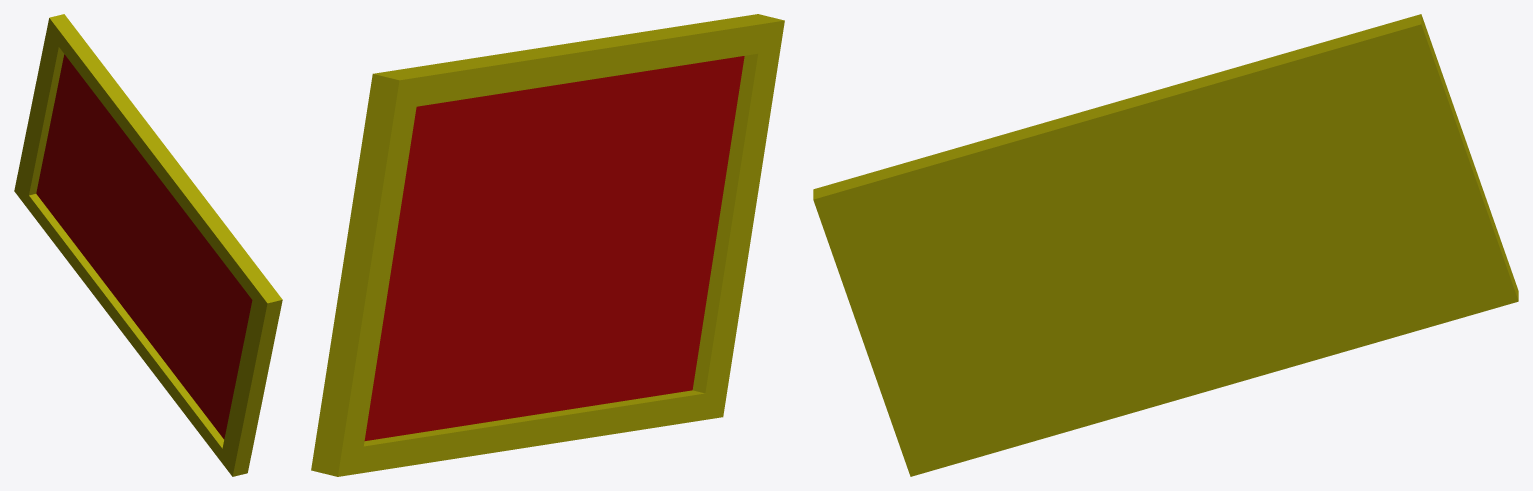
The picture shows the model from 3 angles, left to right: view 1: azimuth 30°, elevation 25°; view 2: azimuth 150°, elevation 25°; view 3: azimuth 270°, elevation 25°; orthographic projection. The views are drawn at different scales.
Parts seen in each view (by area): view 1: pCube5; view 2: pCube5; view 3: pCube5.
Part boxes in pixels (box(x1,y1,x2,y2)): pCube5: box(14, 14, 282, 476); pCube5: box(311, 14, 784, 476); pCube5: box(813, 14, 1518, 476).
Bounding box in the file's own units: 0.1136 × 2.33 × 3.28.
